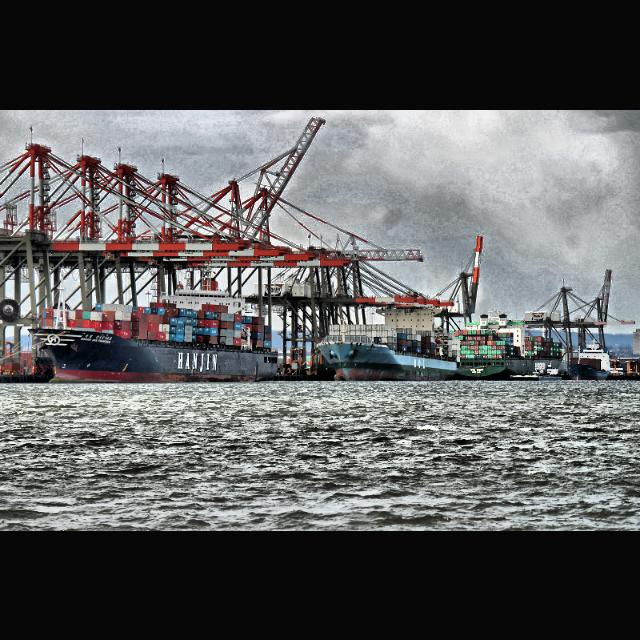container: (27, 278, 281, 384), (317, 302, 461, 382), (446, 310, 564, 380), (566, 338, 616, 380)
